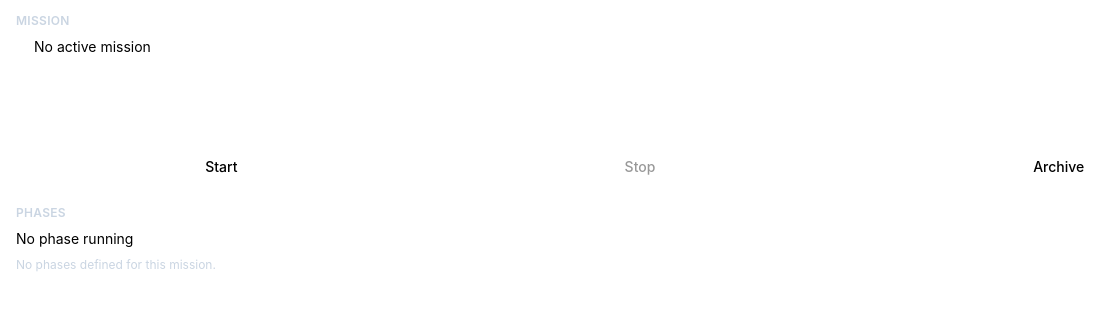
Test: MissionControl › surfaces a rejected transition
What coordinates should you click on to do the following:
click the button with test id "mission-start"
I would click on:
 (221, 167)
Its box is [16,145,427,189].
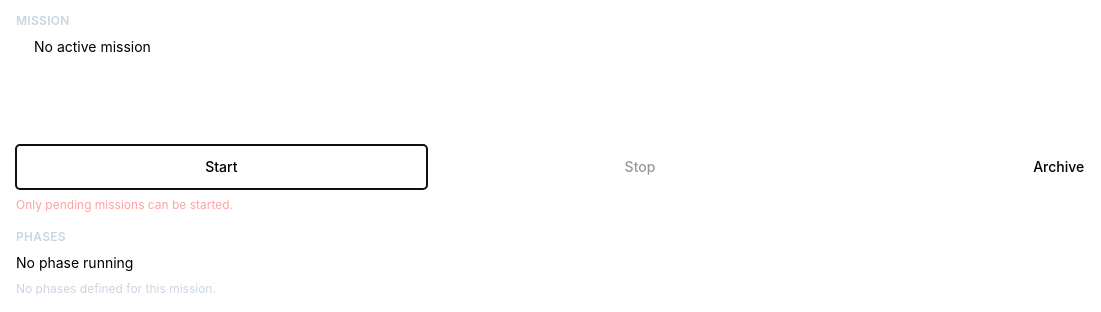
Check: the message reads "Only pending missions can be started.", box [16,197,233,212]
